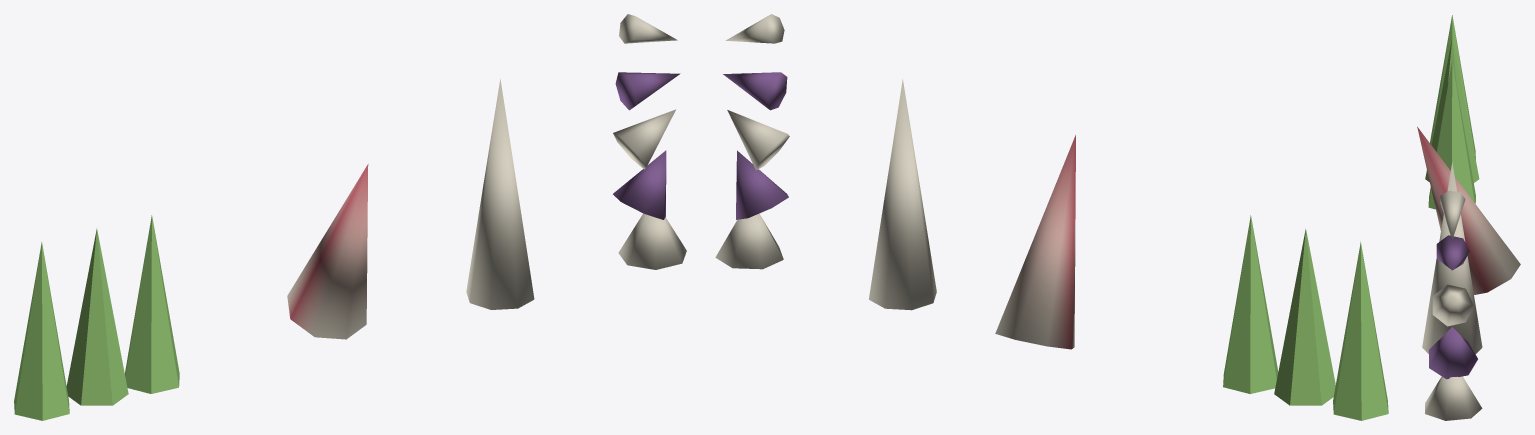
Rendered from pack_horns_spikes.glb.
The picture shows the model from 3 angles, left to right: view 1: azimuth 30°, elevation 25°; view 2: azimuth 150°, elevation 25°; view 3: azimuth 270°, elevation 25°; orthographic projection. The views are drawn at different scales.
Visible parts, largest first — view 1: HornStraight, HornCurved, Cone.006, Cone.005, Cone.007, Cone, Cone.001, Cone.002, Cone.003, Cone.004; view 2: HornCurved, HornStraight, Cone.006, Cone.005, Cone.007, Cone, Cone.001, Cone.002, Cone.003, Cone.004; view 3: HornCurved, HornStraight, Cone.007, Cone, Cone.001, Cone.006, Cone.002, Cone.005, Cone.003, Cone.004.
Boxes of the visible parts, bbox=[...] form: HornStraight: bbox=[466, 79, 534, 309]; HornCurved: bbox=[287, 164, 368, 339]; Cone.006: bbox=[66, 228, 128, 405]; Cone.005: bbox=[14, 242, 69, 420]; Cone.007: bbox=[125, 215, 179, 393]; Cone: bbox=[618, 213, 686, 269]; Cone.001: bbox=[613, 150, 666, 219]; Cone.002: bbox=[613, 109, 675, 169]; Cone.003: bbox=[615, 72, 680, 110]; Cone.004: bbox=[619, 14, 677, 43]; HornCurved: bbox=[995, 135, 1075, 349]; HornStraight: bbox=[869, 79, 936, 310]; Cone.006: bbox=[1274, 228, 1335, 405]; Cone.005: bbox=[1333, 241, 1388, 420]; Cone.007: bbox=[1223, 215, 1278, 393]; Cone: bbox=[715, 213, 783, 269]; Cone.001: bbox=[736, 150, 788, 219]; Cone.002: bbox=[727, 110, 789, 170]; Cone.003: bbox=[723, 72, 787, 110]; Cone.004: bbox=[725, 14, 784, 43]; HornCurved: bbox=[1417, 126, 1520, 294]; HornStraight: bbox=[1422, 162, 1482, 354]; Cone.007: bbox=[1428, 61, 1475, 209]; Cone: bbox=[1425, 376, 1482, 420]; Cone.001: bbox=[1429, 327, 1477, 379]; Cone.006: bbox=[1425, 38, 1479, 182]; Cone.002: bbox=[1432, 284, 1473, 326]; Cone.005: bbox=[1430, 15, 1475, 159]; Cone.003: bbox=[1436, 235, 1469, 270]; Cone.004: bbox=[1440, 191, 1465, 239].
Bounding box in the file's own units: 1.09 × 0.3998 × 0.1721.
